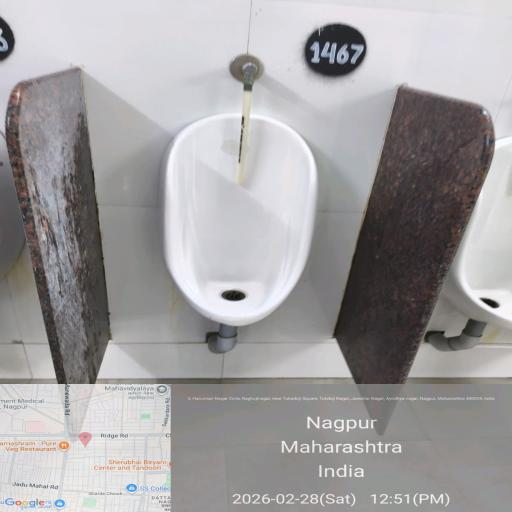clean_urinal: (149, 98, 346, 348)
partial_dirty_floor: (96, 371, 512, 511)
